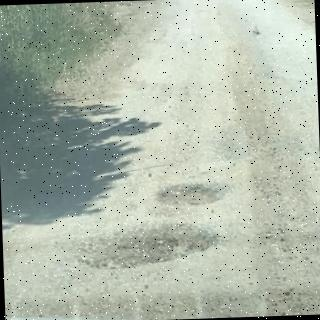pothole: (79, 224, 219, 269), (157, 182, 231, 207)
